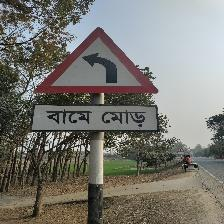Left-Turn: (30, 27, 162, 133)
